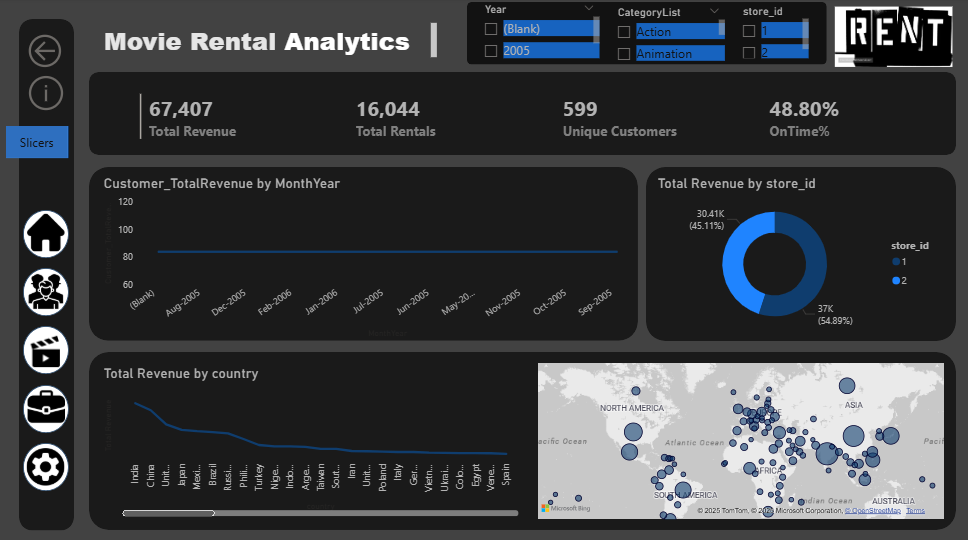

What the dashboard file says about the page in this screenshot:
{"tool":"powerbi","page":{"name":"Overview","canvas":[1280,720],"ordinal":16},"visuals":[{"type":"shape","box":[27.4,27.4,72,669.6],"z":0},{"type":"actionButton","title":"Slicer Toggle","box":[10.1,167,82.1,41.8],"z":1000},{"type":"shape","box":[33,277.6,60,63],"z":2000},{"type":"shape","box":[119.1,96.9,1135,108.7],"z":3000},{"type":"textbox","box":[133.9,27.4,446.4,63.4],"z":4000},{"type":"shape","box":[119.5,221.8,718.6,227.5],"z":5000},{"type":"shape","box":[119.1,463.4,1135,233],"z":6000},{"type":"shape","box":[848.3,221.2,405.8,227.8],"z":7000},{"type":"multiRowCard","fields":{"Values":["Calculate Measure.Total Revenue","Calculate Measure.Total Rentals","dim_customer.customer_id","Calculate Measure.OnTime%"]},"box":[180,120,1100,73],"z":8000},{"type":"lineChart","fields":{"Category":["Dim_Date.MonthYear"],"Y":["Calculate Measure.Customer_TotalRevenue"]},"box":[133.6,231.1,705.3,217.6],"z":9000},{"type":"donutChart","fields":{"Category":["dim_staff.store_id"],"Y":["Calculate Measure.Total Revenue"]},"box":[858.8,231.7,384.9,212.1],"z":10000},{"type":"map","fields":{"Size":["Calculate Measure.Revenue By Country"],"Category":["dim_customer.country"]},"box":[702.3,472.7,541.7,214.6],"z":11000},{"type":"lineChart","fields":{"Y":["Calculate Measure.Total Revenue"],"Category":["dim_customer.country"]},"box":[133.9,481,553,203],"z":12000},{"type":"image","box":[30,277.6,64.5,58.5],"z":13000},{"type":"shape","box":[33,353.8,60,63],"z":14000},{"type":"shape","box":[33,429.9,60,63],"z":15000},{"type":"shape","box":[33,506.1,60,63],"z":16000},{"type":"shape","box":[33,582.2,60,63],"z":17000},{"type":"image","box":[33,352.6,60,64.5],"z":18000},{"type":"image","box":[31.5,436.7,60,51],"z":19000},{"type":"image","box":[33,505.7,60,58.5],"z":20000},{"type":"image","box":[33,580.7,58.5,64.5],"z":21000},{"type":"image","box":[1090.1,5.8,164.2,90.7],"z":24000},{"type":"actionButton","box":[34.6,41.8,57.6,54.7],"z":25000},{"type":"actionButton","box":[34.6,92.2,57.6,66.2],"z":26000}]}

Visuals, with their boxes on the page's 1280x720 design canvas (x1, y1, x2, y2). These are canvas units, not pixel positions in the 968x540 screenshot, which may show the page scaled, cropped or inside an application window:
shape: 27:27:99:697
"Slicer Toggle" actionButton: 10:167:92:209
shape: 33:278:93:341
shape: 119:97:1254:206
textbox: 134:27:580:91
shape: 120:222:838:449
shape: 119:463:1254:696
shape: 848:221:1254:449
multiRowCard - Calculate Measure.Total Revenue x Calculate Measure.Total Rentals: 180:120:1280:193
lineChart - Dim_Date.MonthYear x Calculate Measure.Customer_TotalRevenue: 134:231:839:449
donutChart - dim_staff.store_id x Calculate Measure.Total Revenue: 859:232:1244:444
map - Calculate Measure.Revenue By Country x dim_customer.country: 702:473:1244:687
lineChart - Calculate Measure.Total Revenue x dim_customer.country: 134:481:687:684
image: 30:278:94:336
shape: 33:354:93:417
shape: 33:430:93:493
shape: 33:506:93:569
shape: 33:582:93:645
image: 33:353:93:417
image: 32:437:92:488
image: 33:506:93:564
image: 33:581:92:645
image: 1090:6:1254:96
actionButton: 35:42:92:96
actionButton: 35:92:92:158
